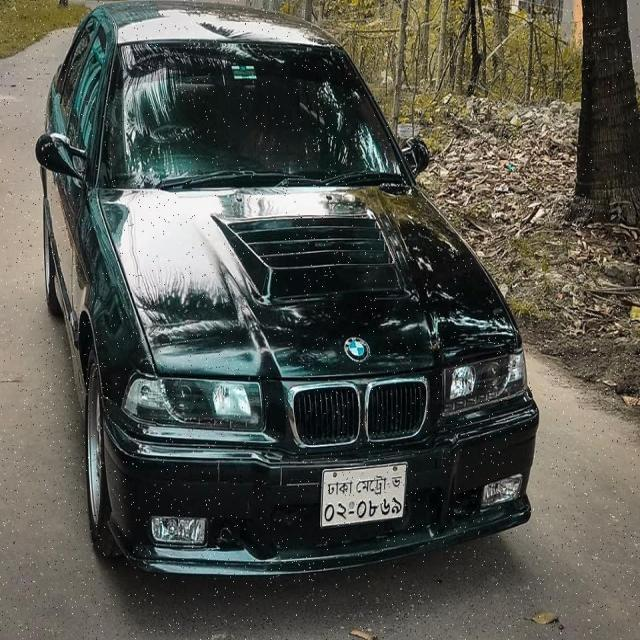numberplate: (318, 461, 407, 529)
